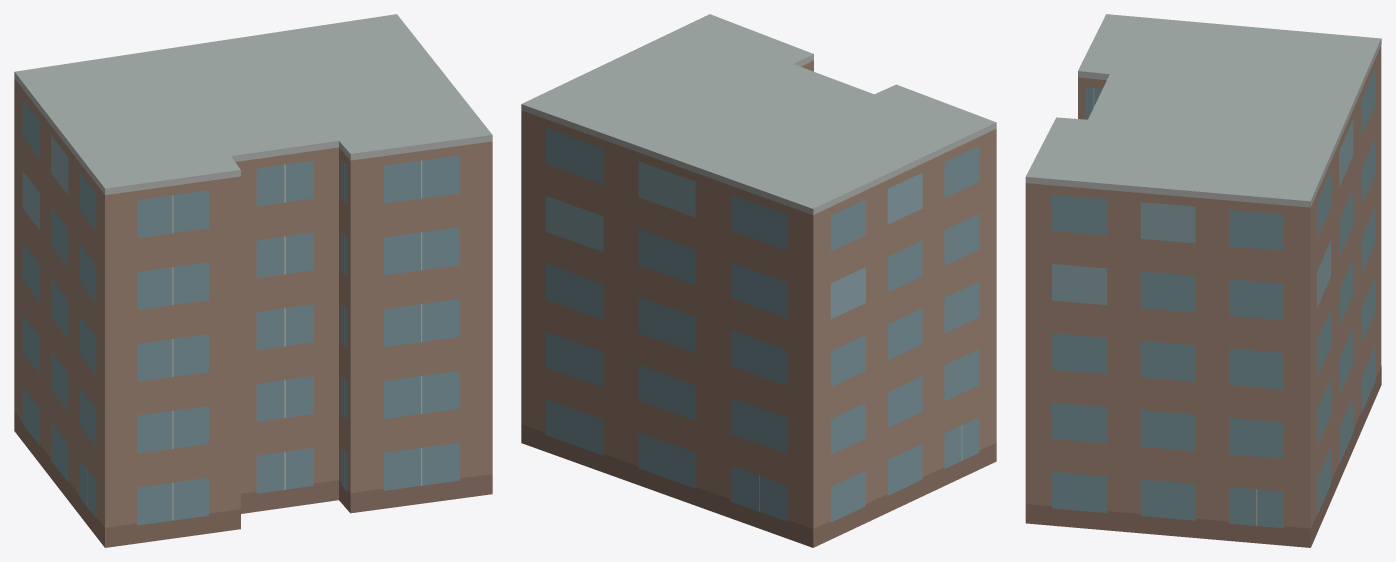
The model's file is survey-upis-32675561.glb.
The picture shows the model from 3 angles, left to right: view 1: azimuth 30°, elevation 25°; view 2: azimuth 150°, elevation 25°; view 3: azimuth 270°, elevation 25°; orthographic projection. The views are drawn at different scales.
Visible parts, largest first — view 1: survey-upis-32675561.tmp; view 2: survey-upis-32675561.tmp; view 3: survey-upis-32675561.tmp.
Boxes of the visible parts, bbox=[...] form: survey-upis-32675561.tmp: bbox=[14, 14, 492, 547]; survey-upis-32675561.tmp: bbox=[521, 14, 996, 547]; survey-upis-32675561.tmp: bbox=[1025, 14, 1381, 547].
Size of the model in its own units: 15.6 by 13.45 by 12.52.
